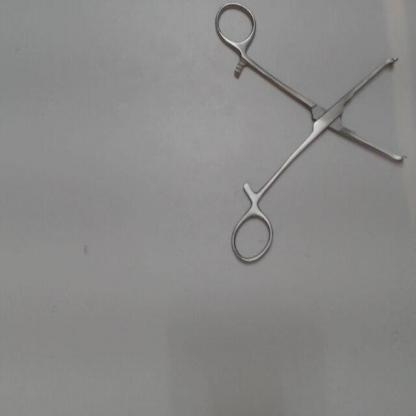Allis Tissue Forceps: (209, 3, 410, 268)
